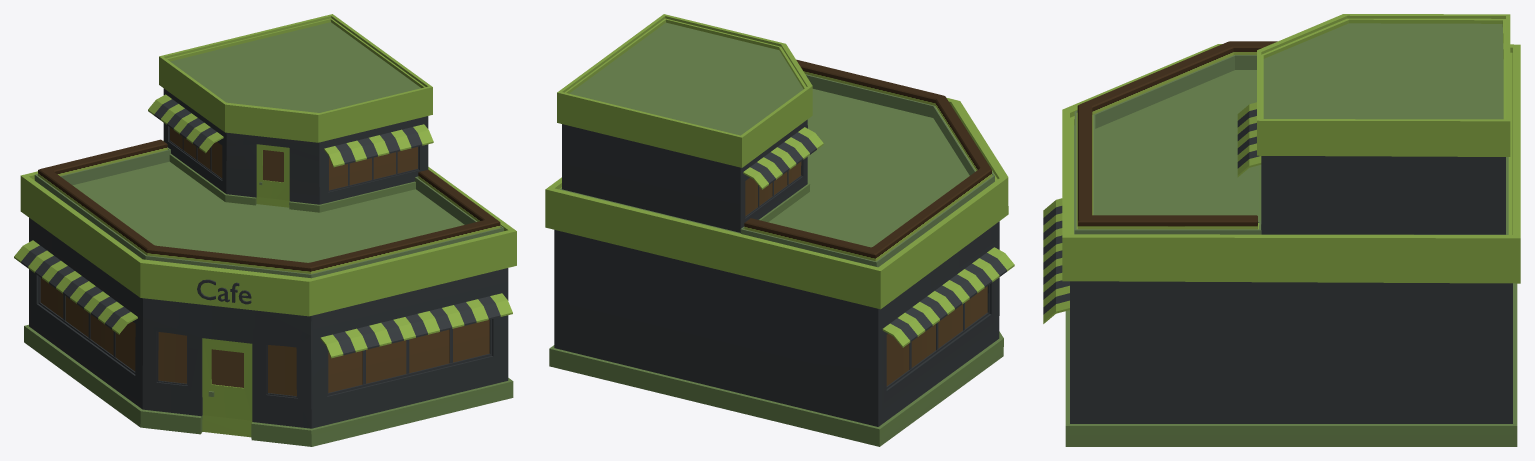
File: Cafe_01.fbx
3 renders of one model, left to right at view 1: azimuth 30°, elevation 25°; view 2: azimuth 150°, elevation 25°; view 3: azimuth 270°, elevation 25°, orthographic. The views are drawn at different scales.
Parts seen in each view (by area): view 1: Cafe_01; view 2: Cafe_01; view 3: Cafe_01.
Part boxes in pixels (x1,y1,x2,y2): Cafe_01: (14, 14, 516, 446); Cafe_01: (545, 14, 1014, 446); Cafe_01: (1043, 14, 1520, 446).
Size of the model in its own units: 7.36 by 5.49 by 7.35.
